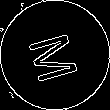M_E: (24, 26, 86, 84)
